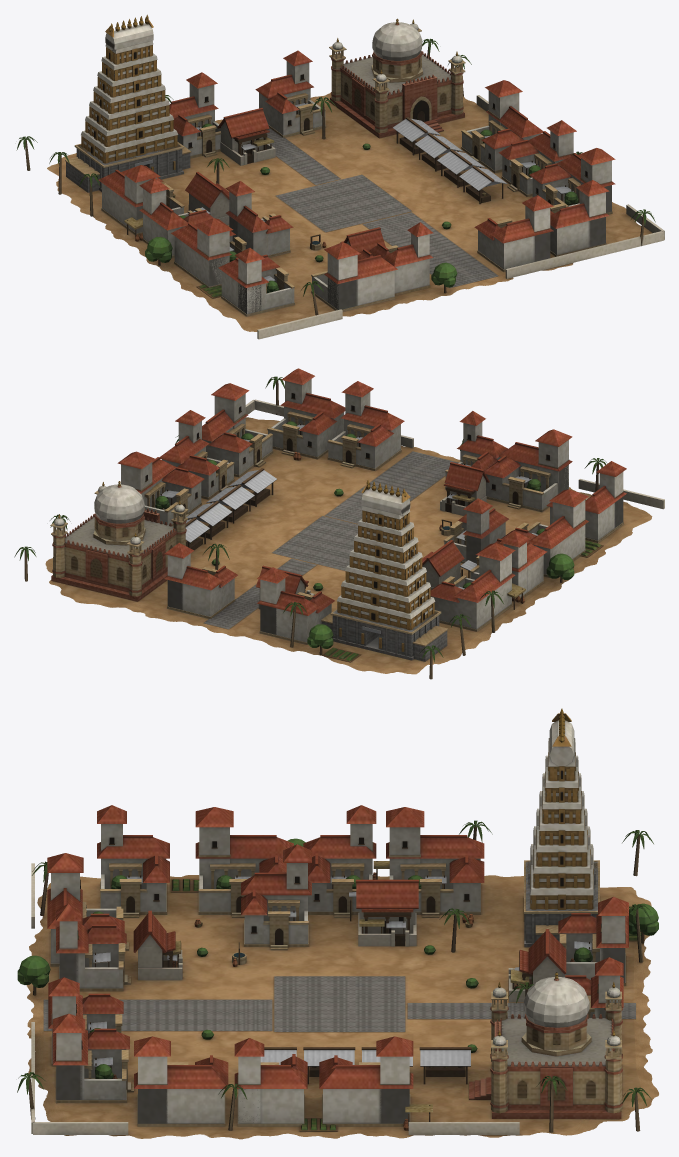
The model's file is kingdoms-town-medium-a-indic.glb.
3 renders of one model, top to bottom at view 1: azimuth 30°, elevation 25°; view 2: azimuth 150°, elevation 25°; view 3: azimuth 270°, elevation 25°, orthographic. The views are drawn at different scales.
Parts seen in each view (by area): view 1: LOD0; view 2: LOD0; view 3: LOD0.
Part boxes in pixels (x1,y1,x2,y2): LOD0: (16, 14, 664, 339); LOD0: (14, 368, 664, 679); LOD0: (17, 708, 658, 1139).
Size of what is drawn, in the model's own units: 6.09 by 2.14 by 6.16.
3 materials, 3 textured.
